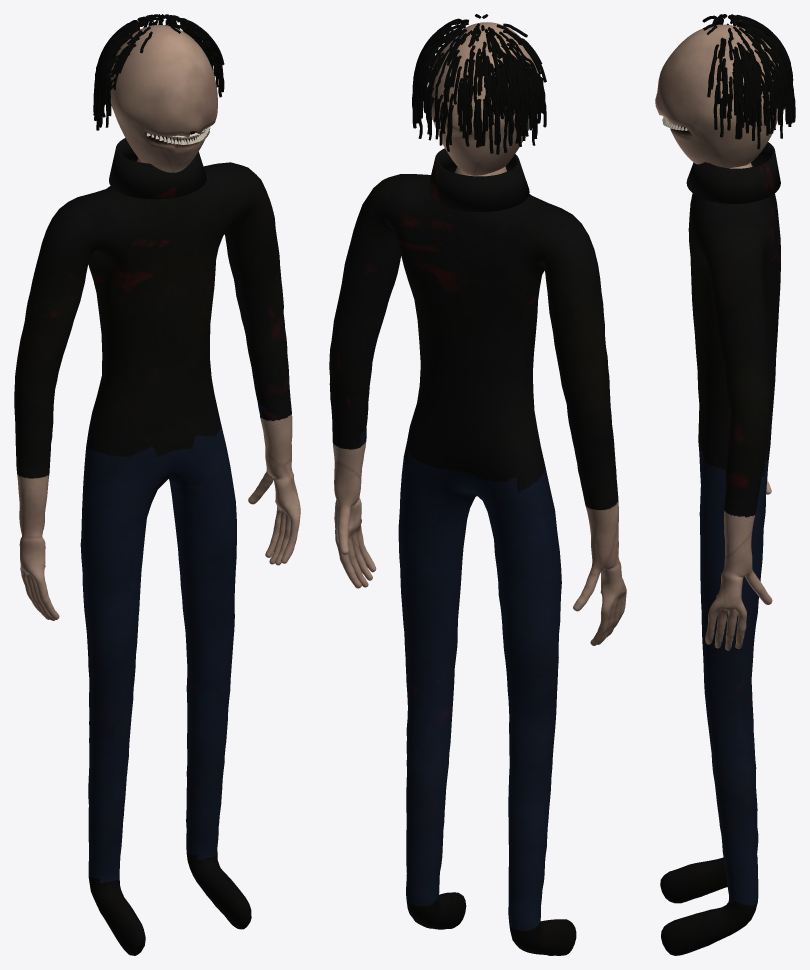
File: m_double.glb
3 renders of one model, left to right at view 1: azimuth 30°, elevation 25°; view 2: azimuth 150°, elevation 25°; view 3: azimuth 270°, elevation 25°, orthographic. The views are drawn at different scales.
Visible parts, largest first — view 1: body, head, hair.001, collar; view 2: body, hair.001, head, collar; view 3: body, head, hair.001, collar.
Boxes of the visible parts, left/top/right/bottom form: body: left=14, top=158, right=300, bottom=955; head: left=110, top=25, right=217, bottom=172; hair.001: left=93, top=14, right=224, bottom=130; collar: left=109, top=138, right=206, bottom=199; body: left=329, top=166, right=626, bottom=955; hair.001: left=412, top=14, right=546, bottom=154; head: left=428, top=22, right=538, bottom=175; collar: left=427, top=148, right=529, bottom=211; body: left=660, top=162, right=780, bottom=955; head: left=655, top=24, right=785, bottom=168; hair.001: left=702, top=14, right=795, bottom=149; collar: left=686, top=142, right=780, bottom=203.
Size of the model in its own units: 0.5615 by 1.76 by 0.2464.
Materials: 5 (3 with a texture image).
